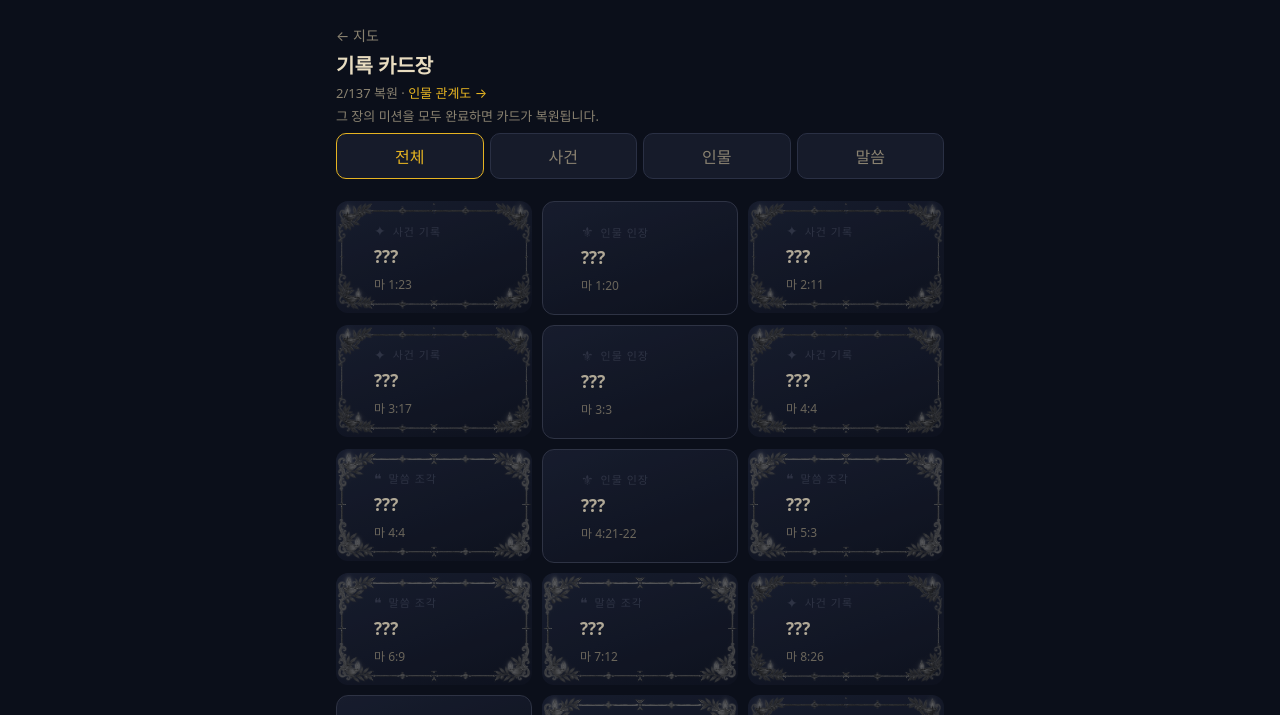
gallery shows locked and earned cards, filter by tab, open detail
Check: the text "2/137 복원 · 인물 관계도 →" is shown, box [336, 84, 487, 102]
Click the tab "인물": (717,156) [643, 133, 790, 179]
(page scrolled)
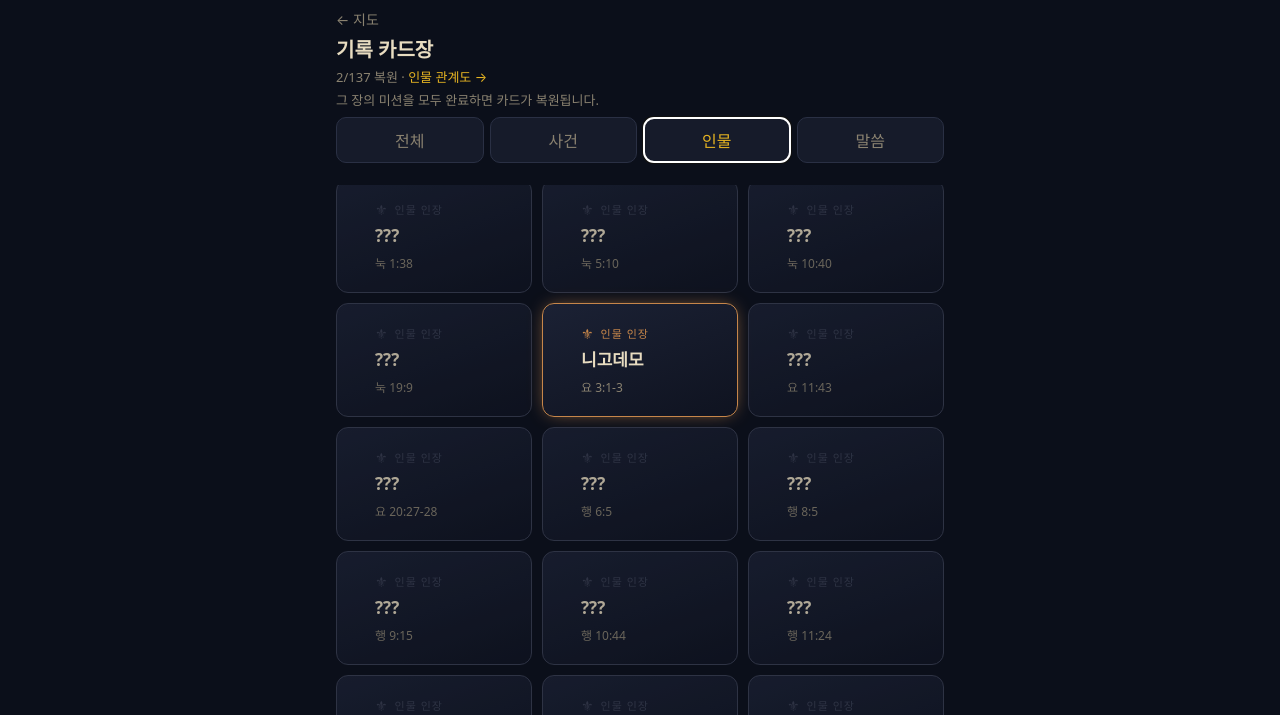
Click the heading "니고데모": (612,359) [581, 348, 644, 371]
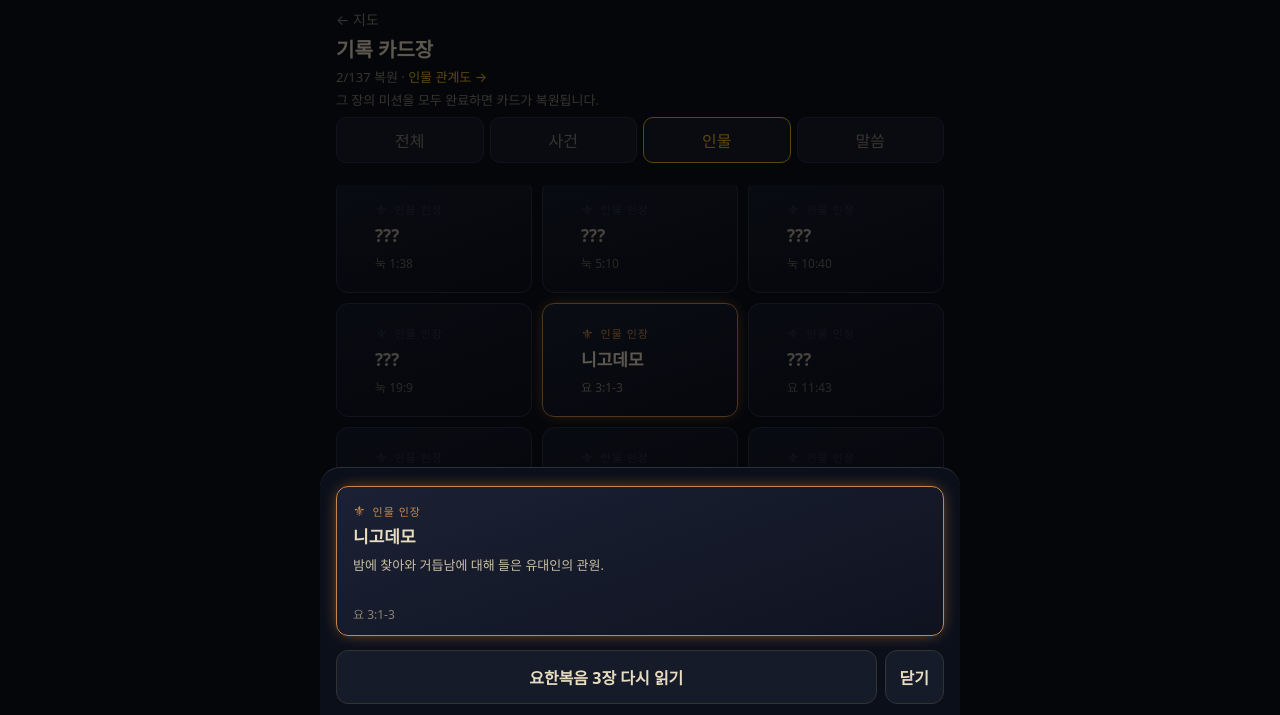
Check: the dialog "니고데모" shows "밤에 찾아와", box [353, 556, 604, 574]
